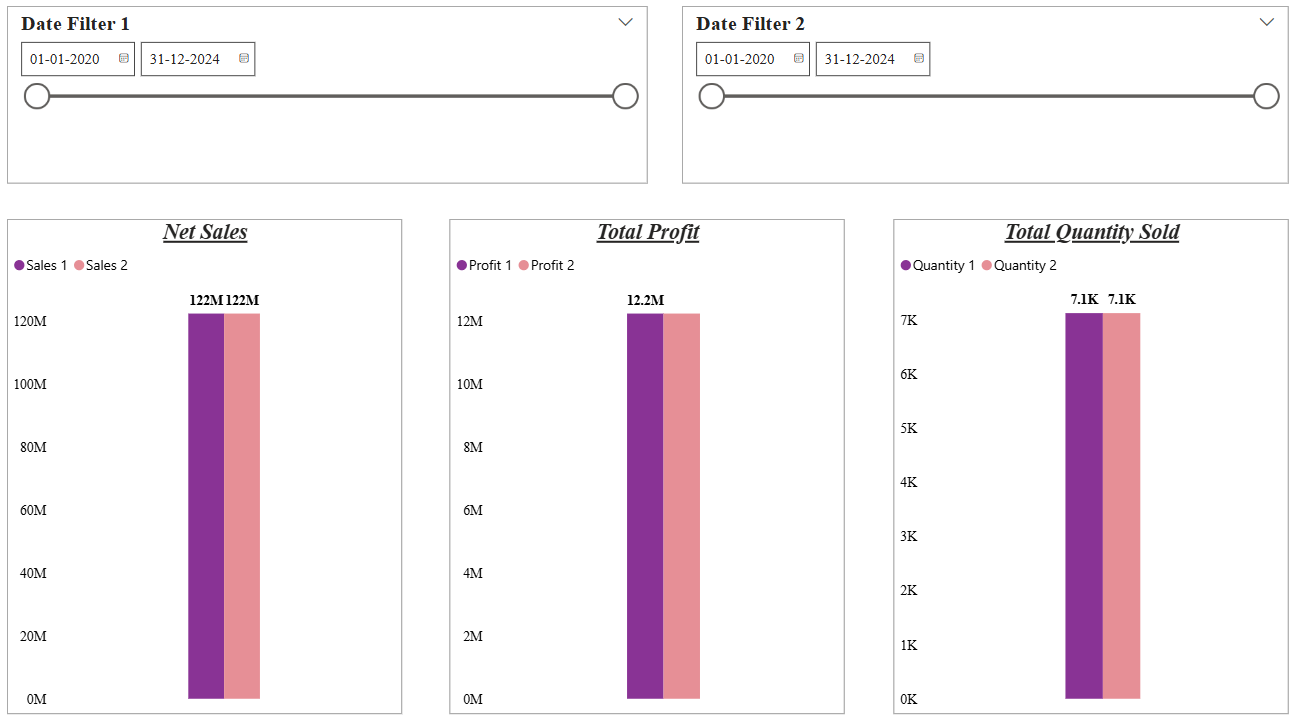

Layout of this report page (visuals, bound fields, positions):
{"tool":"powerbi","page":{"name":"Comparison of Sales/Profit/Quantity Sold","canvas":[1280,720],"ordinal":2},"visuals":[{"type":"slicer","fields":{"Values":["Date Table 1.Date"]},"box":[11.6,11.6,627.8,173.9],"z":0},{"type":"slicer","fields":{"Values":["Date Table 2.Date"]},"box":[674.2,11.6,594.7,173.9],"z":1000},{"type":"clusteredColumnChart","title":"Net Sales","fields":{"Y":["Sum(Fact Table.Net Sales)","Date Table 1.Sum of Net Sales"]},"box":[11.6,220.3,387.6,485.3],"z":2000},{"type":"clusteredColumnChart","title":"Total Profit","fields":{"Y":["Sum(Fact Table.Profit)","Measures Table.Sum of Profit"]},"box":[445.6,220.3,387.6,485.3],"z":3000},{"type":"clusteredColumnChart","title":"Total Quantity Sold","fields":{"Y":["Sum(Fact Table.Units Sold)","Measures Table.Sum of Units Sold"]},"box":[881.2,220.3,387.6,485.3],"z":4000}]}

Visuals, with their boxes in screenshot pixels (x1, y1, x2, y2), scaled from the page's 1280x720 canvas onto the 1297x725 screenshot:
slicer - Date Table 1.Date: bbox=[12, 12, 648, 187]
slicer - Date Table 2.Date: bbox=[683, 12, 1286, 187]
"Net Sales" clusteredColumnChart: bbox=[12, 222, 405, 710]
"Total Profit" clusteredColumnChart: bbox=[452, 222, 844, 710]
"Total Quantity Sold" clusteredColumnChart: bbox=[893, 222, 1286, 710]
